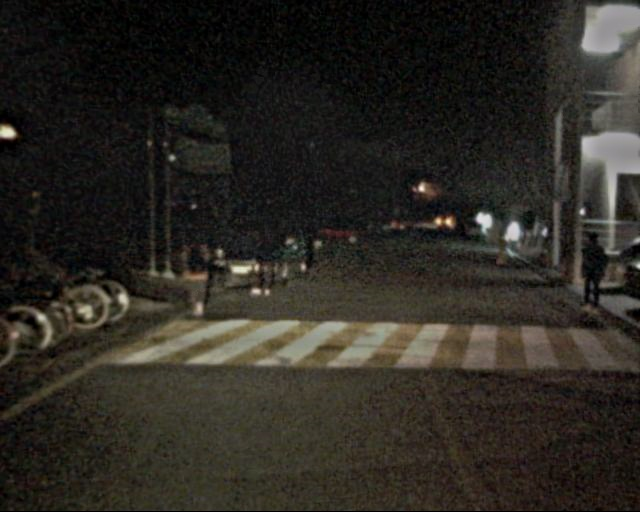person: (175, 228, 216, 322), (573, 233, 611, 322), (248, 220, 283, 298)
